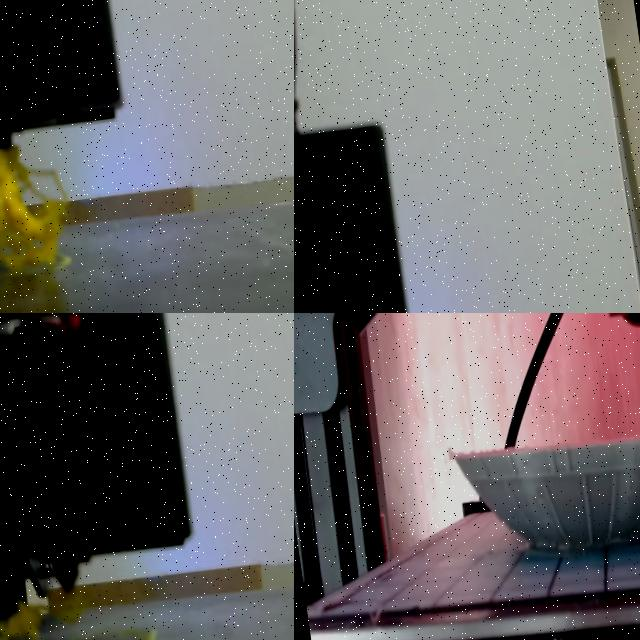spaghetti: (0, 147, 65, 272), (0, 602, 43, 640), (50, 591, 89, 622)
